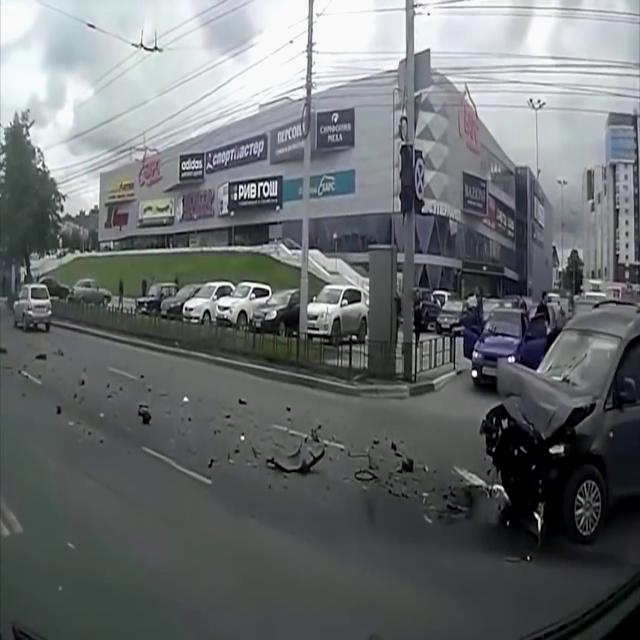accident: (408, 308, 640, 568)
non-accident: (132, 279, 370, 347), (14, 274, 112, 334)
